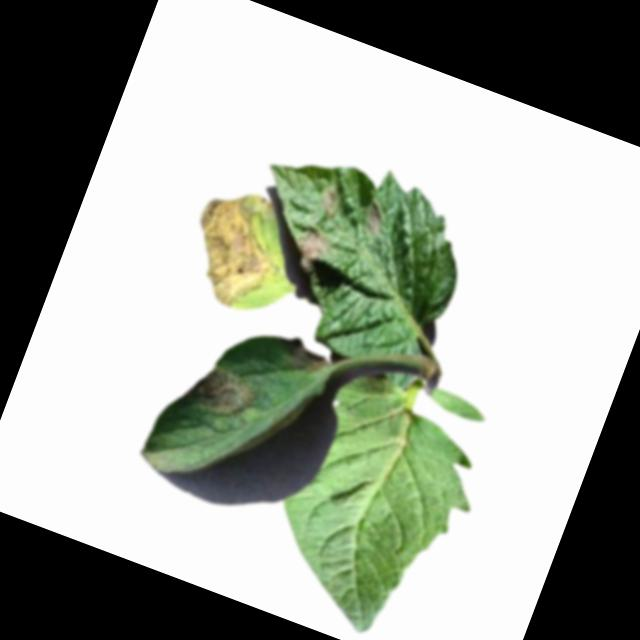Late_blight: (173, 177, 303, 320), (186, 362, 264, 430), (274, 333, 334, 380), (289, 225, 334, 276), (358, 202, 389, 239), (315, 184, 346, 219)
healthy: (249, 350, 506, 640)
